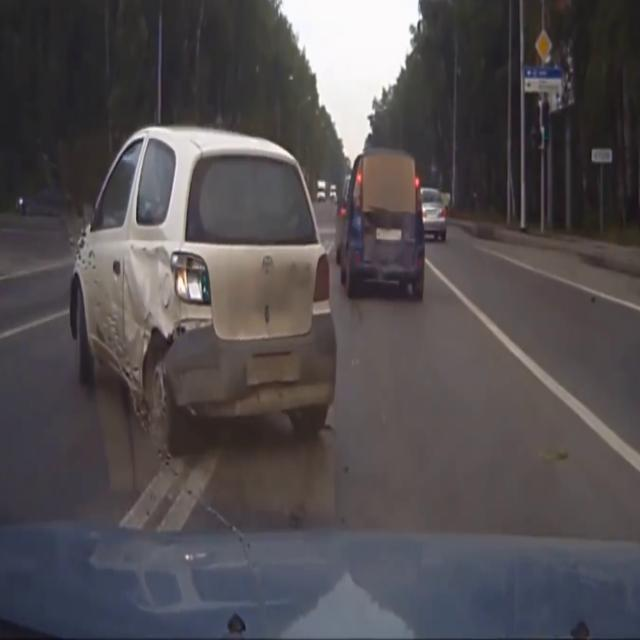accident: (53, 101, 348, 462)
